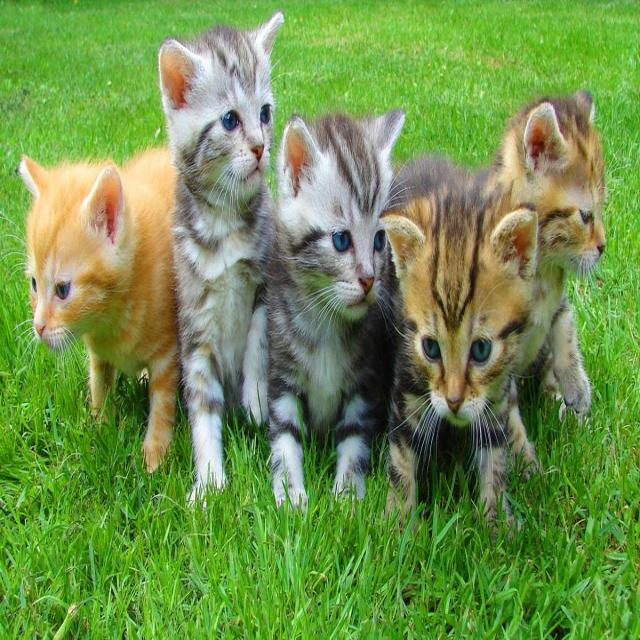Cat: (383, 176, 544, 434), (276, 96, 410, 327), (154, 12, 284, 218), (15, 144, 128, 360), (514, 80, 609, 282)
